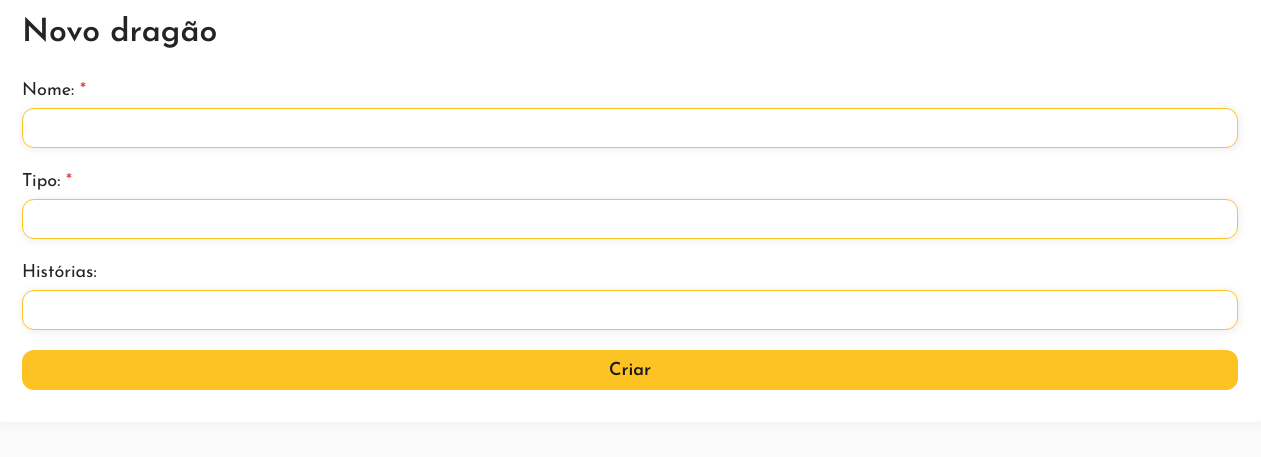
DragonForm › Create form › show error when creating dragon returned an error
The image size is (1261, 457).
Type "Dragão branco" into the field labelled "Nome: *".
click(630, 128); type("Dragão branco")  # box [22,108,1238,148]
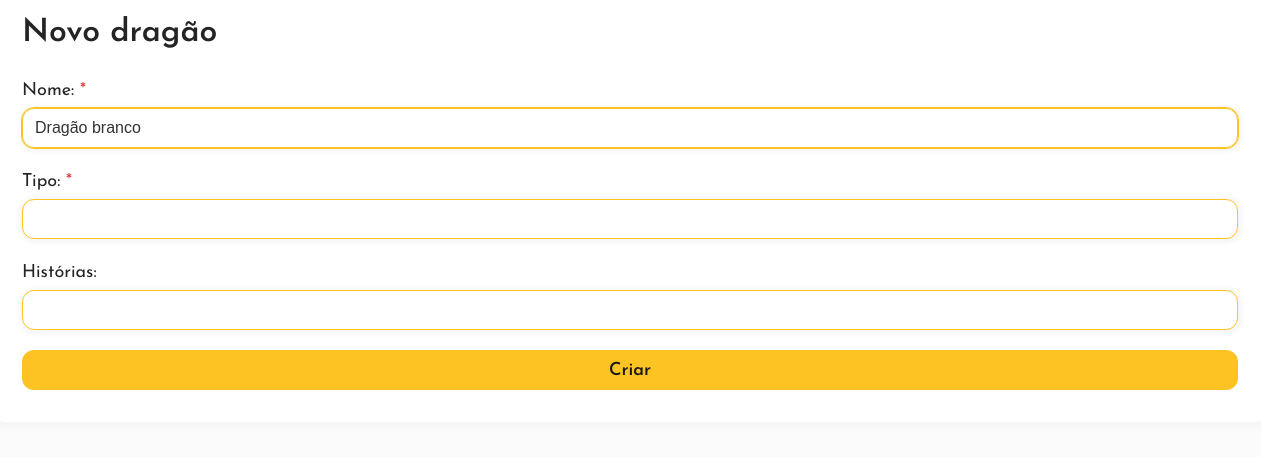
Type "gelo" into the field labelled "Tipo: *".
click(630, 219); type("gelo")  # box [22,199,1238,239]
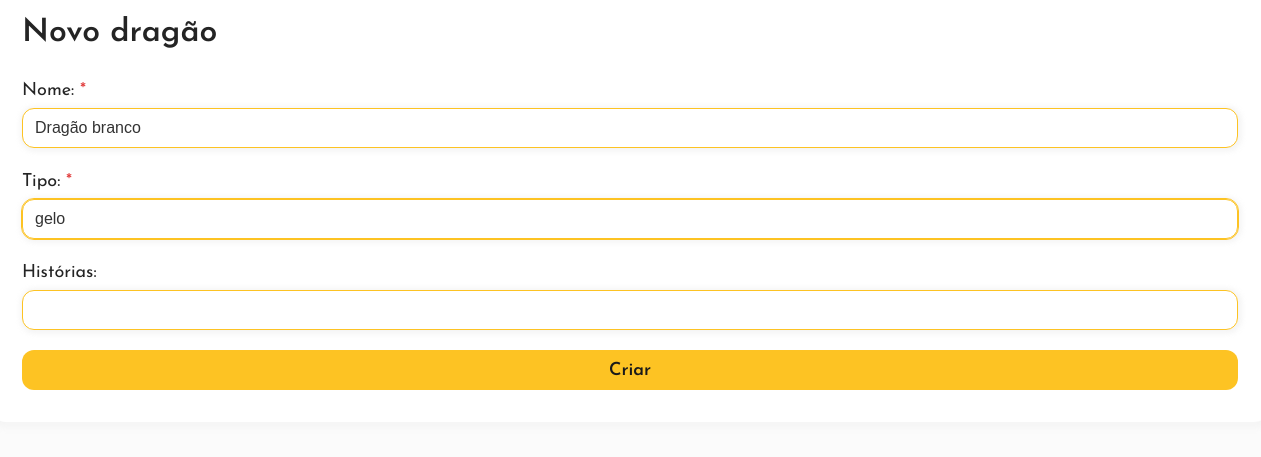
Click the button "Criar".
click(630, 370)  # box [22,350,1238,390]
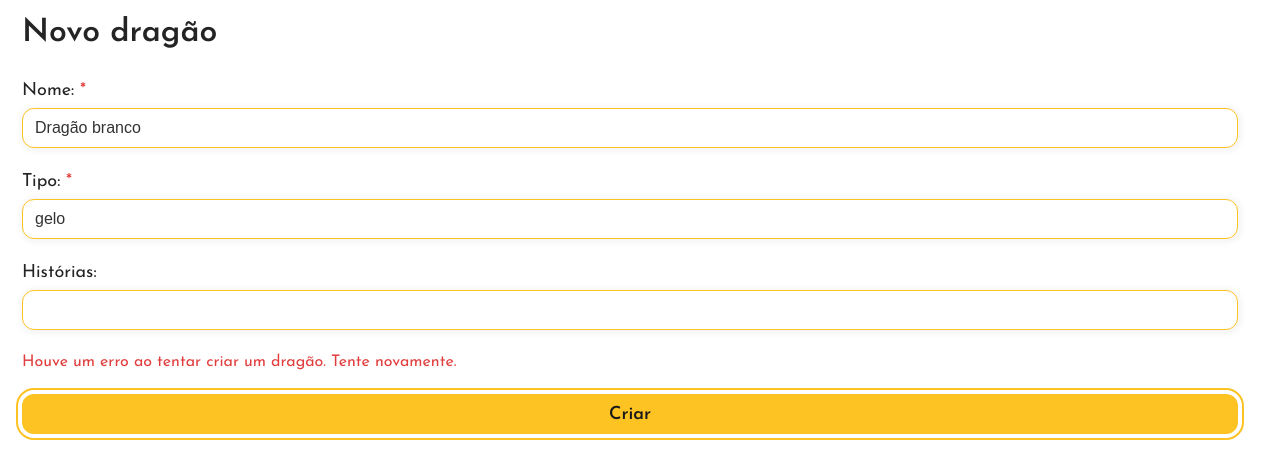
Result: the text "Houve um erro ao tentar criar um dragão. Tente novamente." is shown at [22,354,456,370]
